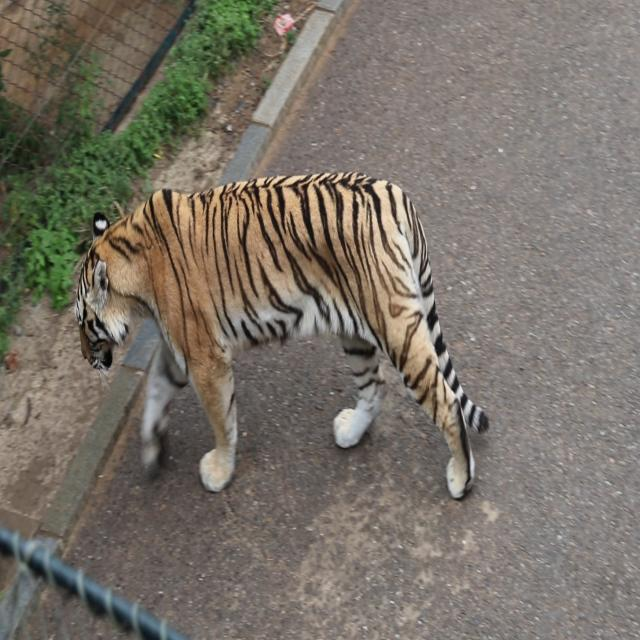Tiger: (62, 128, 498, 512)
